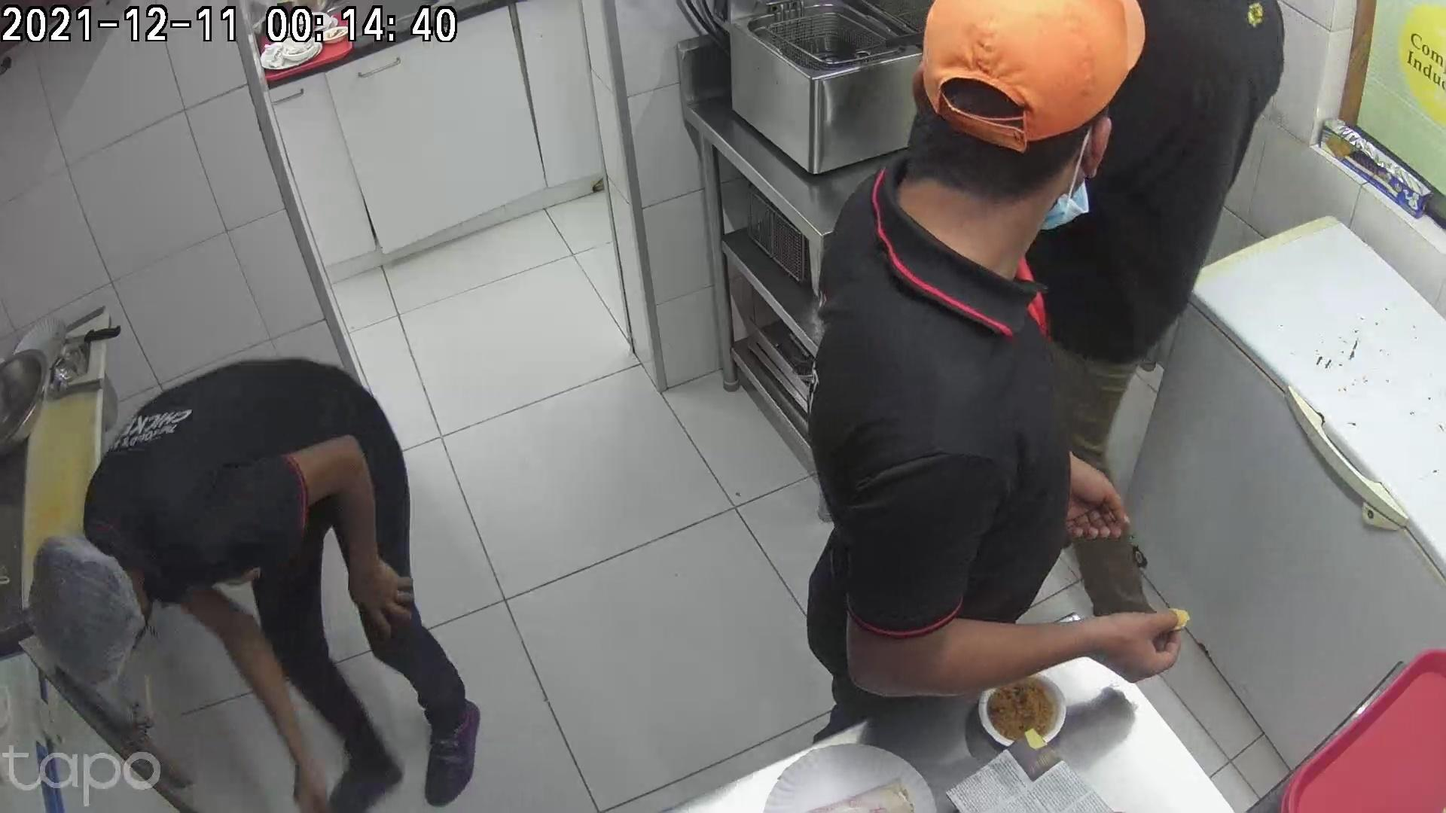no_gloves: (844, 607, 954, 753)
